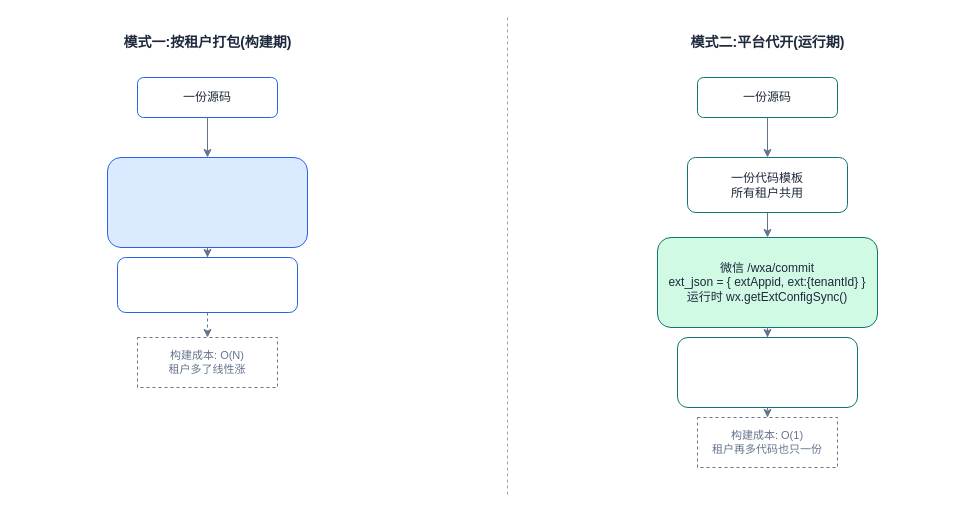
The diagram is 974 pixels wide and 516 high, and some of its shapes have lost their labels. The shapes that lost their labels are listed below. From the top down, each one's box as (x1, y1, x2, y2) in pixels, then its label:
(106, 156, 308, 248): Vite 插件 buildStart 改写 manifest.json 注入 AppId / tenantId
(116, 256, 298, 312): N 个产物包 每个租户一个独立小程序
(676, 336, 858, 408): N 个租户小程序 同一份代码,差异化靠 ext_json
